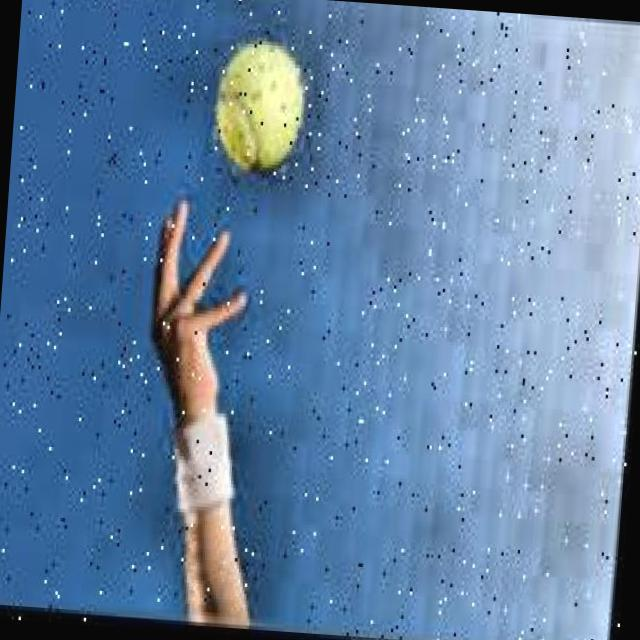Tennis Ball: (207, 36, 314, 182)
